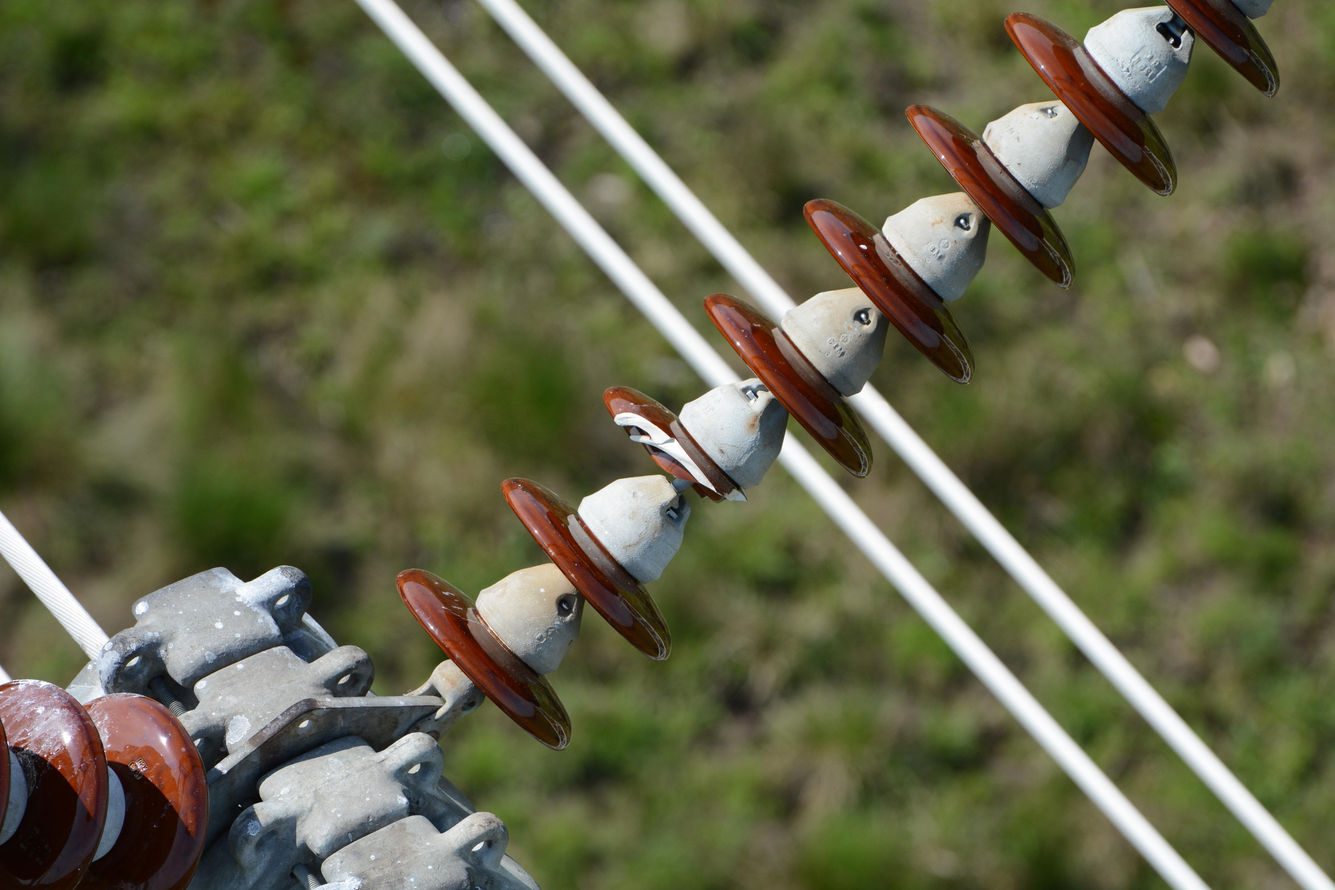damaged: (602, 380, 749, 513)
insulator: (393, 0, 1275, 753), (0, 678, 215, 890)
